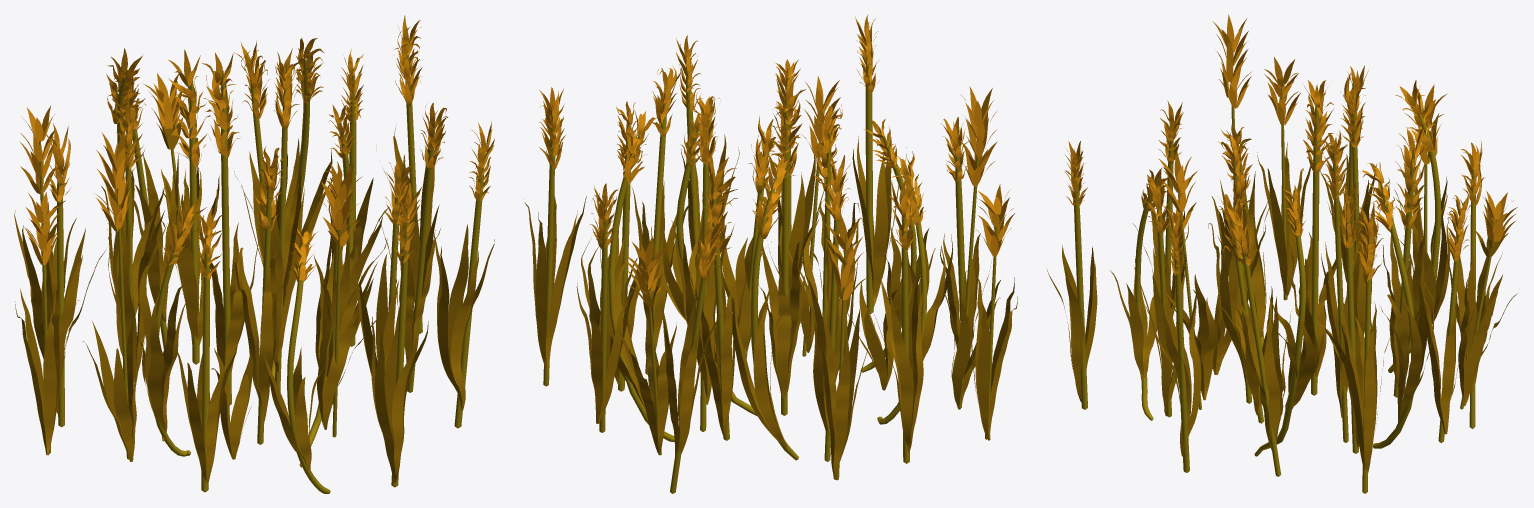
Rendered from wheat.fbx.
The picture shows the model from 3 angles, left to right: view 1: azimuth 30°, elevation 25°; view 2: azimuth 150°, elevation 25°; view 3: azimuth 270°, elevation 25°; orthographic projection. The views are drawn at different scales.
Visible parts, largest first — view 1: brush_Petal_g0_b0, brush_Toon_g0_b0; view 2: brush_Petal_g0_b0, brush_Toon_g0_b0; view 3: brush_Petal_g0_b0, brush_Toon_g0_b0.
Boxes of the visible parts, bbox=[...] form: brush_Petal_g0_b0: bbox=[14, 15, 494, 483]; brush_Toon_g0_b0: bbox=[39, 50, 484, 493]; brush_Petal_g0_b0: bbox=[524, 14, 1017, 479]; brush_Toon_g0_b0: bbox=[543, 52, 997, 493]; brush_Petal_g0_b0: bbox=[1046, 14, 1517, 472]; brush_Toon_g0_b0: bbox=[1073, 43, 1497, 493].
Size of the model in its own units: 122 by 99.21 by 119.
